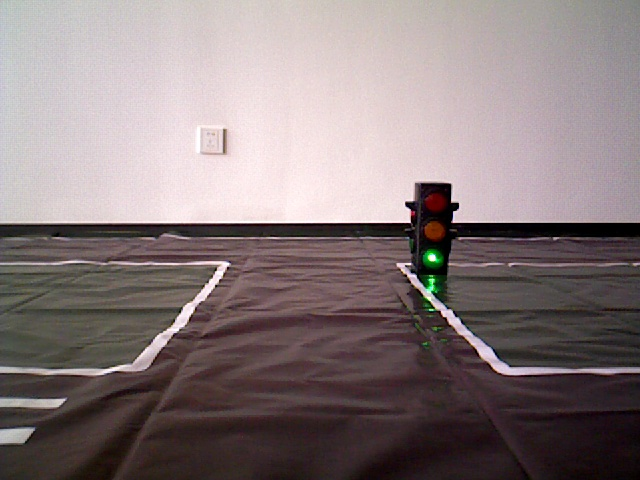green: (414, 185, 449, 270)
